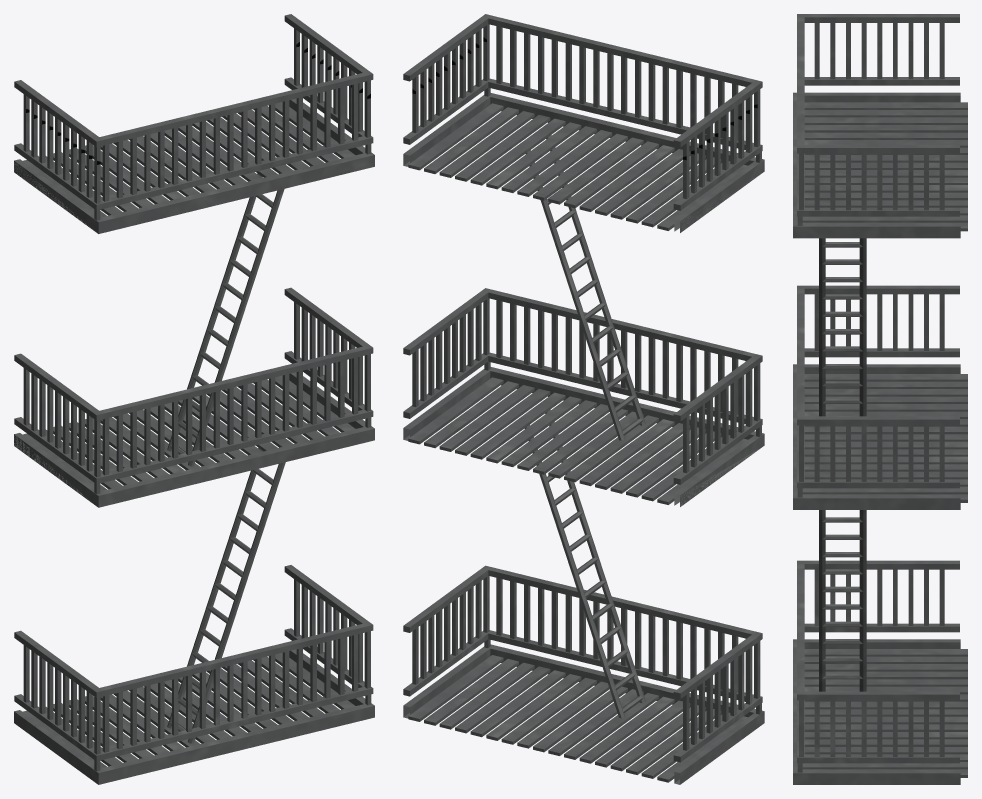
The model's file is Fire_exit.gltf.
3 views of the same model, side by side, from view 1: azimuth 30°, elevation 25°; view 2: azimuth 150°, elevation 25°; view 3: azimuth 270°, elevation 25° (orthographic).
Visible parts, largest first — view 1: Cube.007; view 2: Cube.007; view 3: Cube.007.
Boxes of the visible parts, x1=… form: Cube.007: x1=14, y1=14, x2=374, y2=784; Cube.007: x1=403, y1=14, x2=764, y2=784; Cube.007: x1=793, y1=14, x2=967, y2=784.
Bounding box in the file's own units: 3.25 × 7.2 × 1.79.
Materials: 1 (1 with a texture image).
